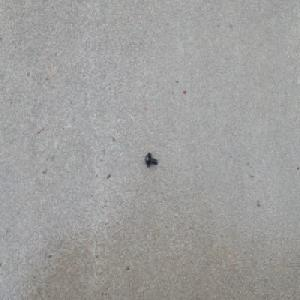BoltWasher: (144, 152, 157, 167)
